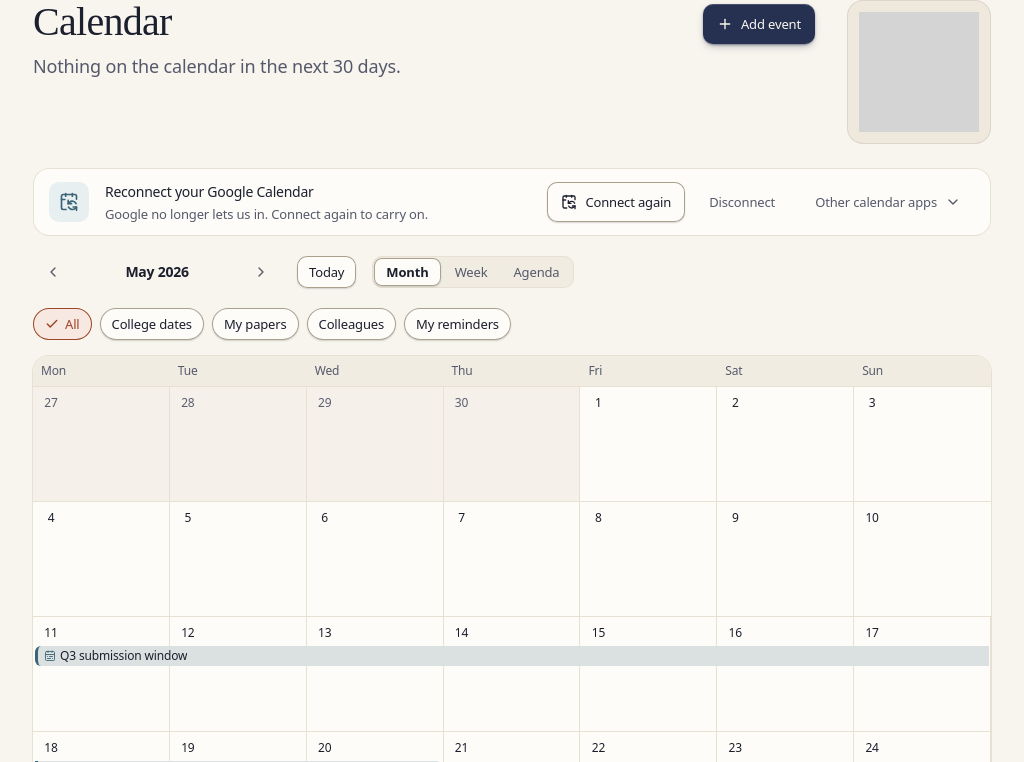
Test: The event sheet when Google has ended the connection › offers to add the event by hand again, because nothing is syncing
Step 1. Click the 1st button "Q3 submission window" → click(124, 656), box left=35, top=646, right=989, bottom=666
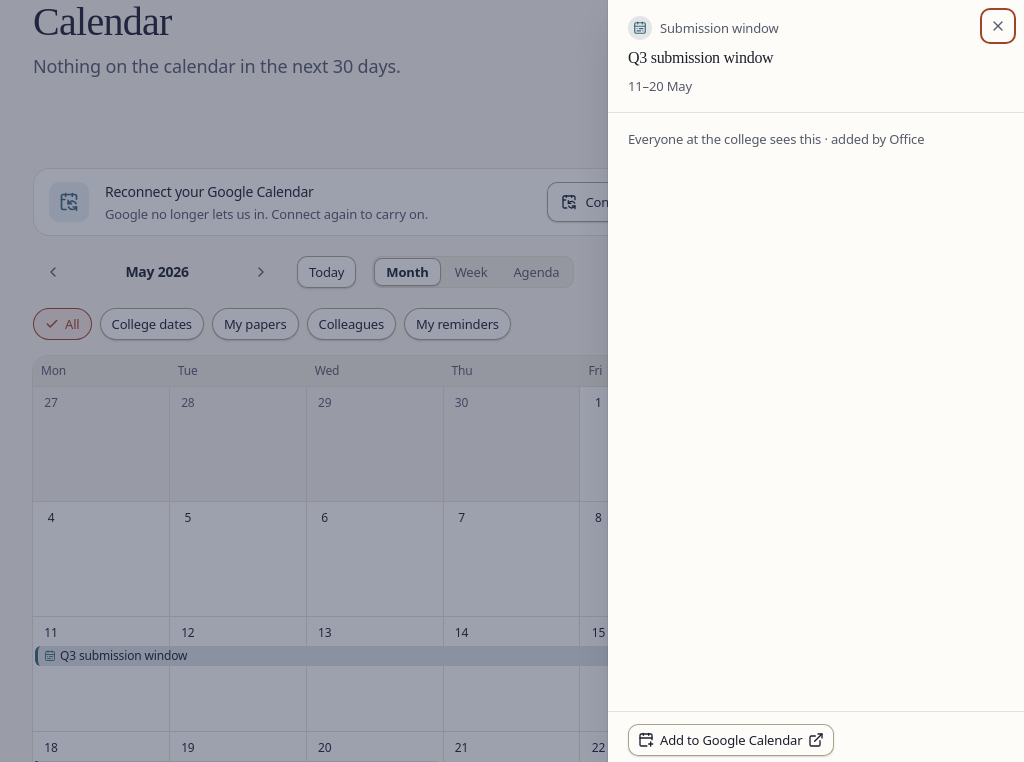
Now the link "Add to Google Calendar" is shown, box left=628, top=724, right=834, bottom=756
